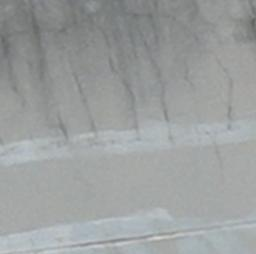fissura: (6, 0, 254, 110)
